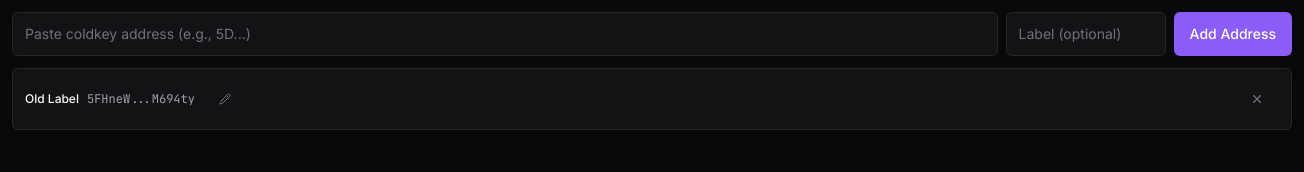
it: AddressManager › enters inline edit mode on edit click
The image size is (1304, 172).
Click the button named "edit label" at [225, 99], box [203,77,247,121]
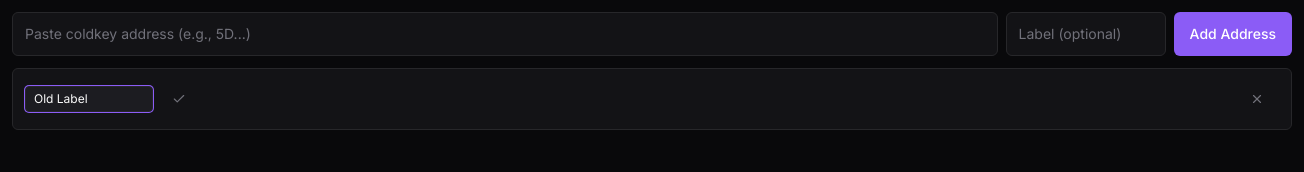
Expected: the field named "edit address label" holds "Old Label", [25,86,153,112]
